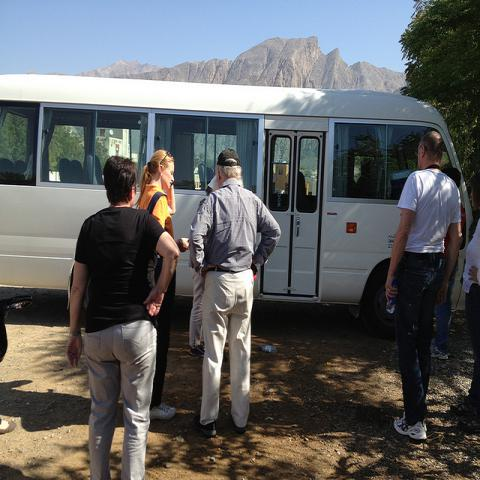bus: (1, 73, 472, 314)
